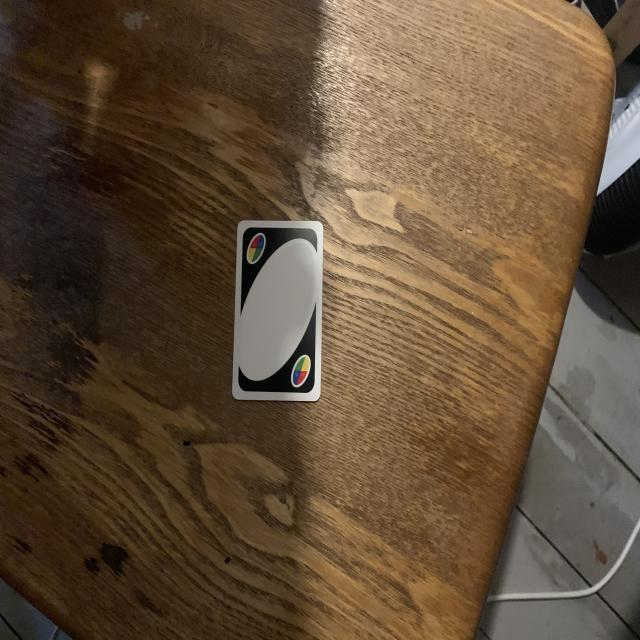lcolor-40: (244, 231, 268, 268)
